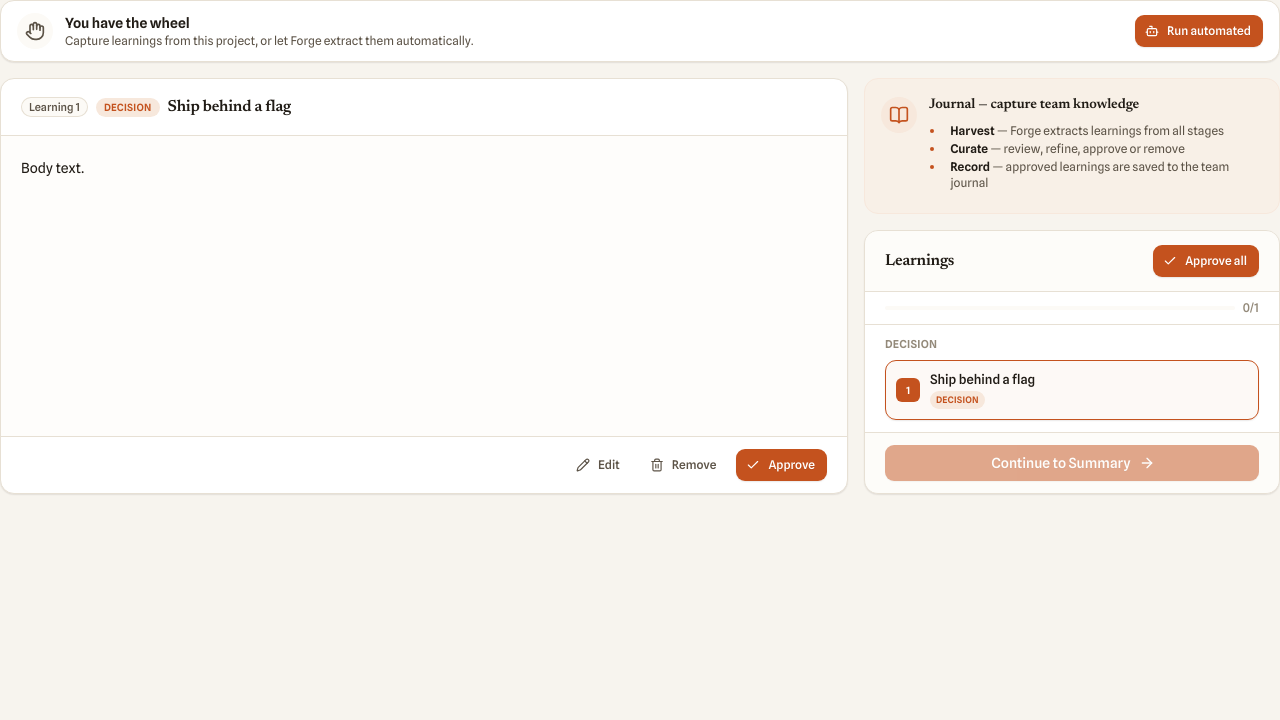
Test: JournalStageClient — removing a learning › does not delete on the first click; it asks
The width and height of the screenshot is (1280, 720).
Click the button "Remove".
click(684, 465)  # box [640,449,728,481]
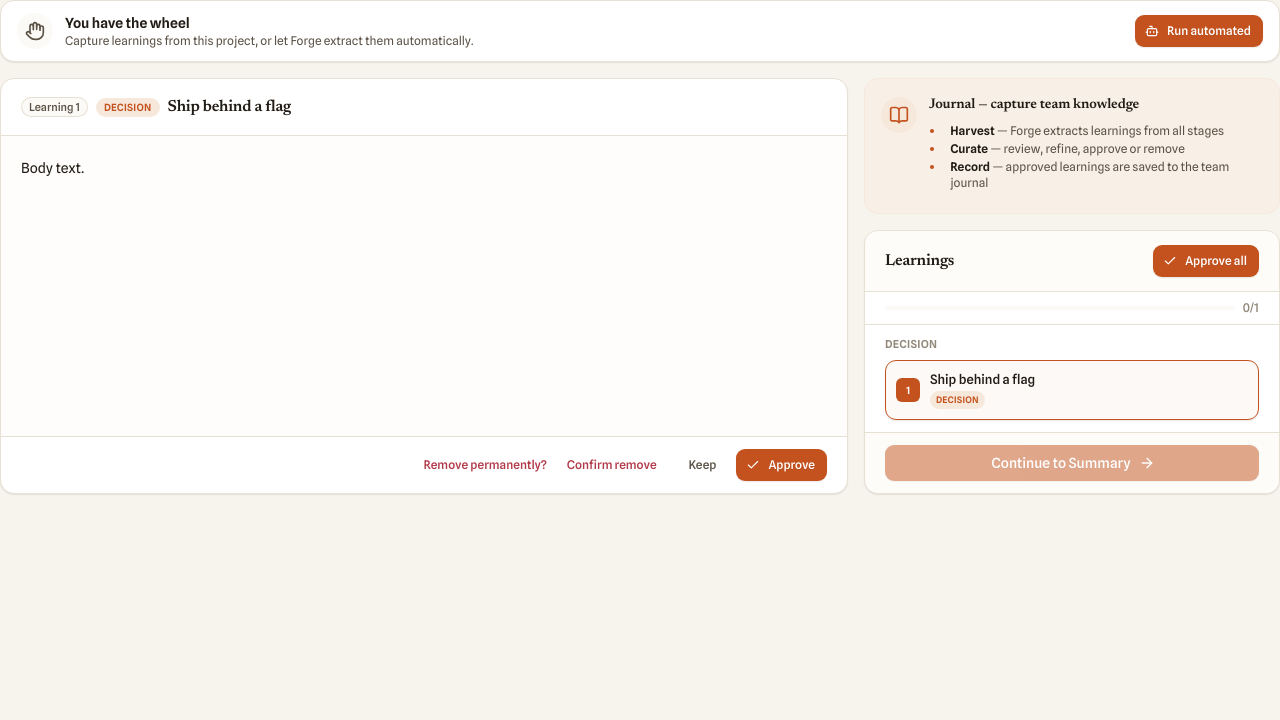
Expected: the text "Remove permanently?" is shown, [423,457,547,473]
